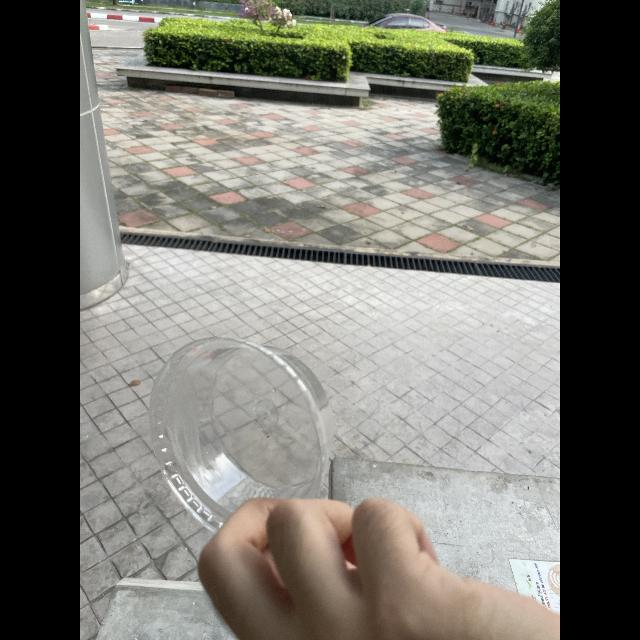plastic_cup_lid: (142, 327, 340, 533)
